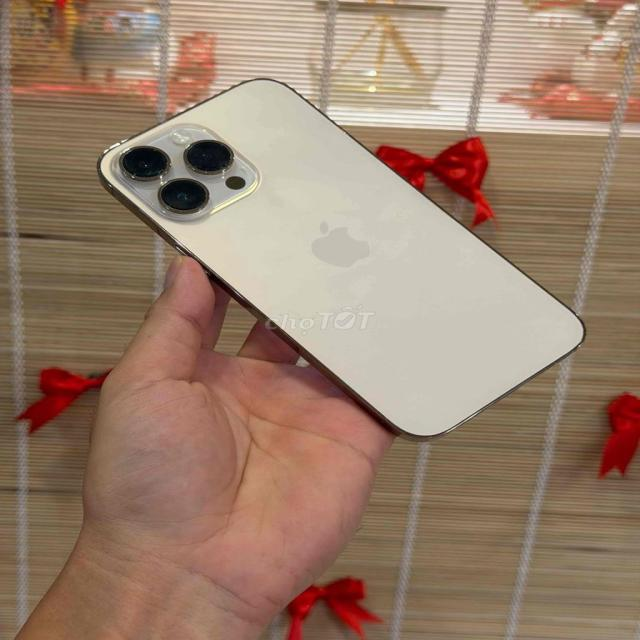gen_14: (91, 69, 590, 448)
